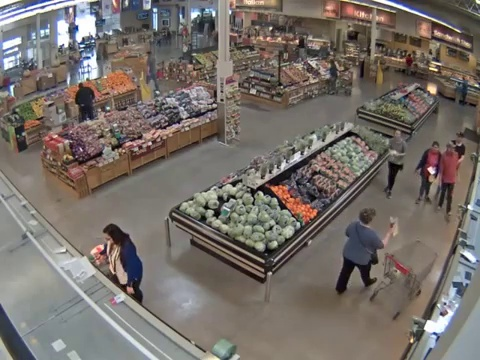face: (103, 231, 112, 245), (395, 131, 401, 138), (432, 144, 438, 151), (456, 135, 461, 141)
